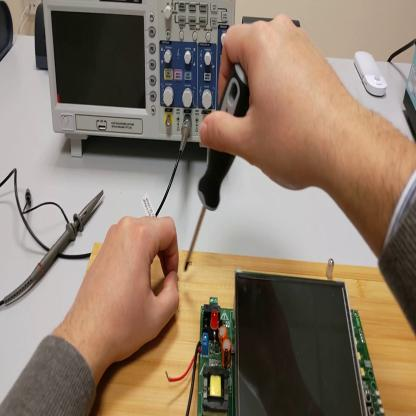hand: (202, 15, 345, 194), (77, 213, 181, 362)
low voltage board: (167, 271, 387, 413)
oscilloscope: (43, 3, 236, 159)
oscilloscope probe tip: (4, 192, 103, 307)
screwdriver-: (186, 63, 250, 271)
socket: (36, 2, 51, 71), (2, 2, 15, 67)
welder station: (404, 53, 416, 138)
working area: (85, 244, 415, 414)
